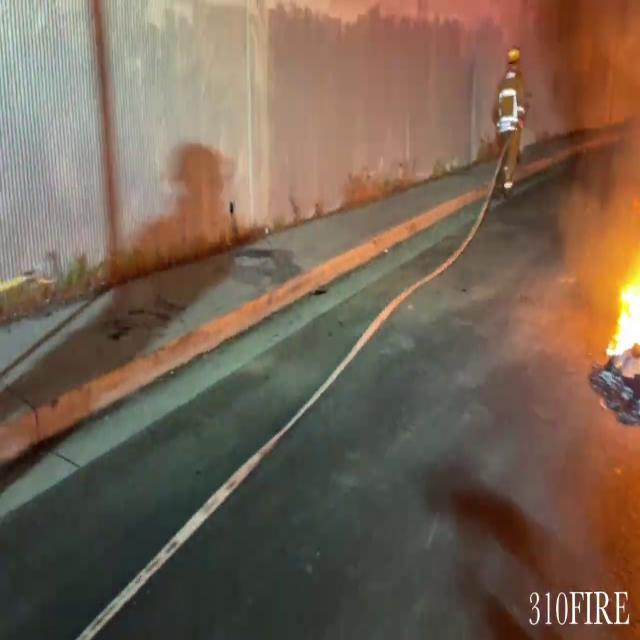Fire: (585, 210, 640, 413)
